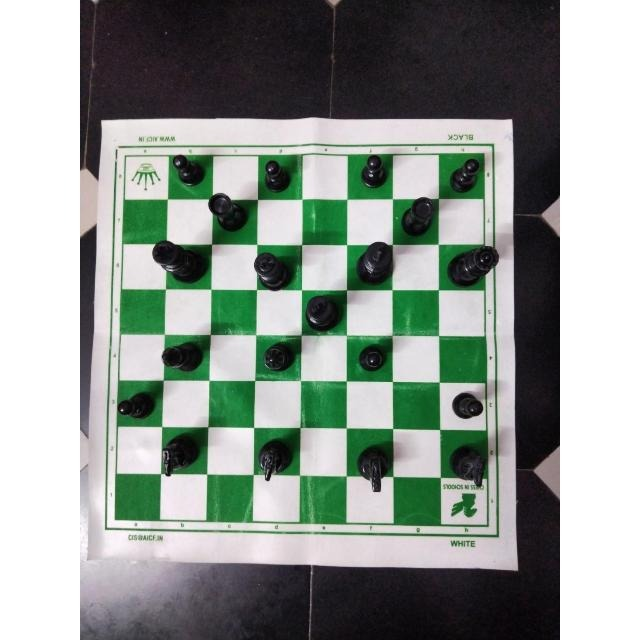black-bishop: (160, 336, 209, 383), (254, 337, 298, 370)
black-king: (149, 238, 210, 286), (353, 238, 399, 290), (250, 248, 306, 290), (297, 295, 346, 335)
black-knight: (348, 432, 396, 500), (445, 439, 494, 493), (251, 431, 299, 480), (156, 431, 206, 477)
black-pawn: (348, 149, 396, 199), (447, 386, 487, 430), (445, 153, 485, 195), (117, 388, 159, 428), (168, 151, 212, 189), (258, 156, 298, 197), (353, 339, 395, 376)
black-queen: (441, 243, 505, 289)
black-rook: (206, 190, 250, 234), (396, 192, 436, 238)
